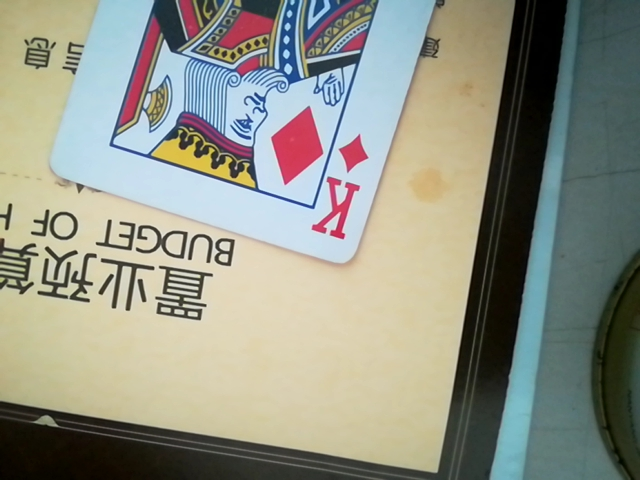fk k: (42, 2, 474, 266)
